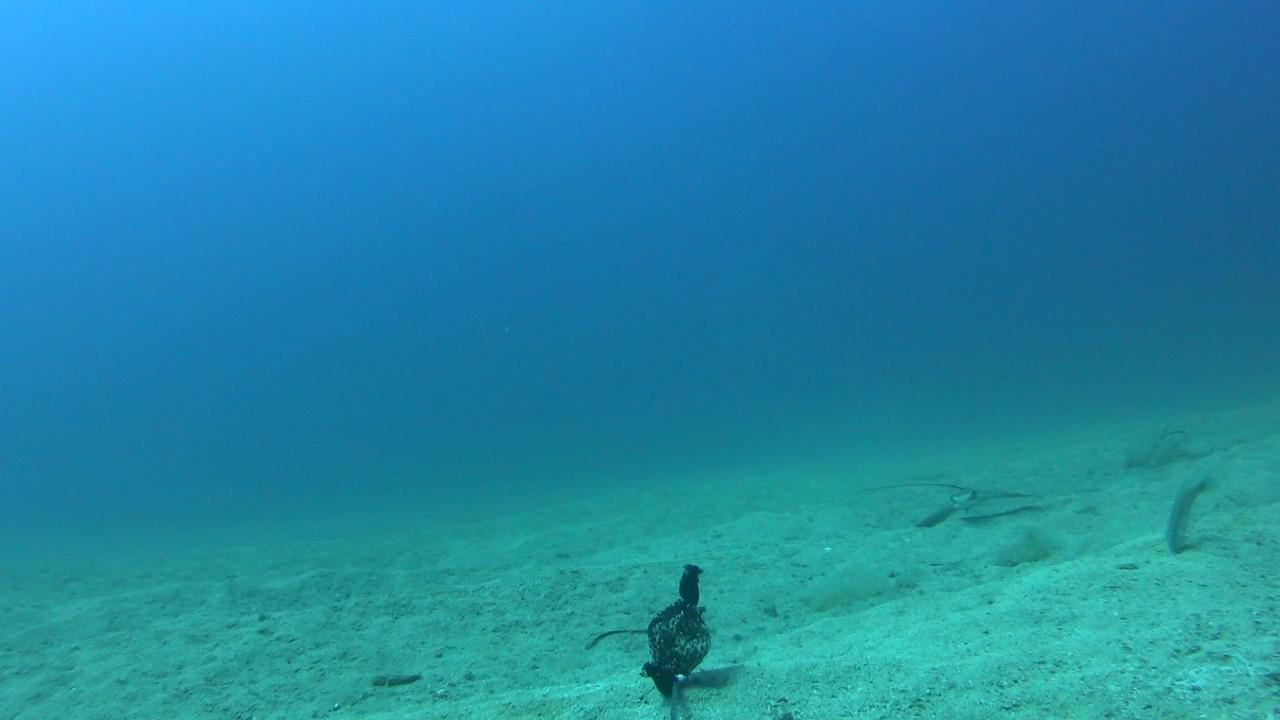myliobatis: (851, 448, 1043, 539)
raor: (1165, 470, 1221, 557)
